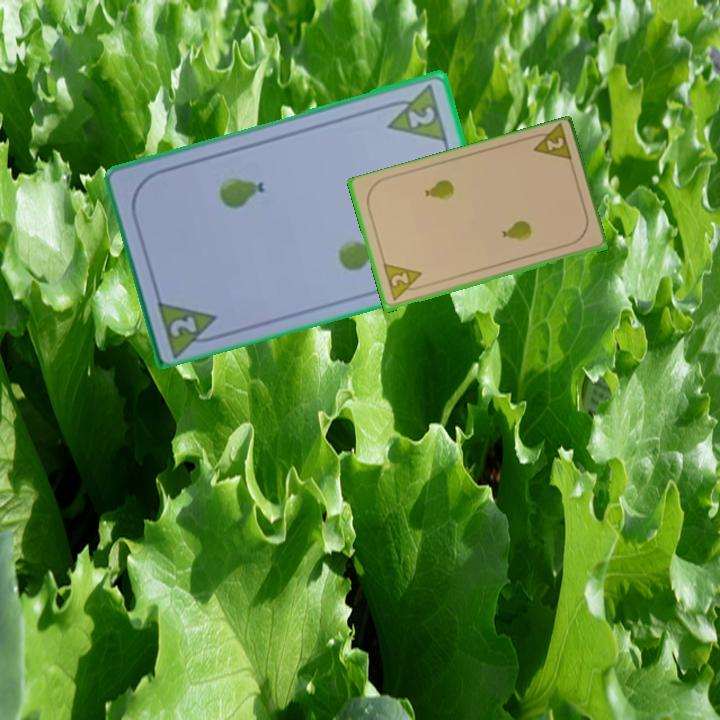2p: (379, 80, 451, 144), (525, 122, 575, 166), (380, 261, 427, 304), (166, 312, 200, 340)
